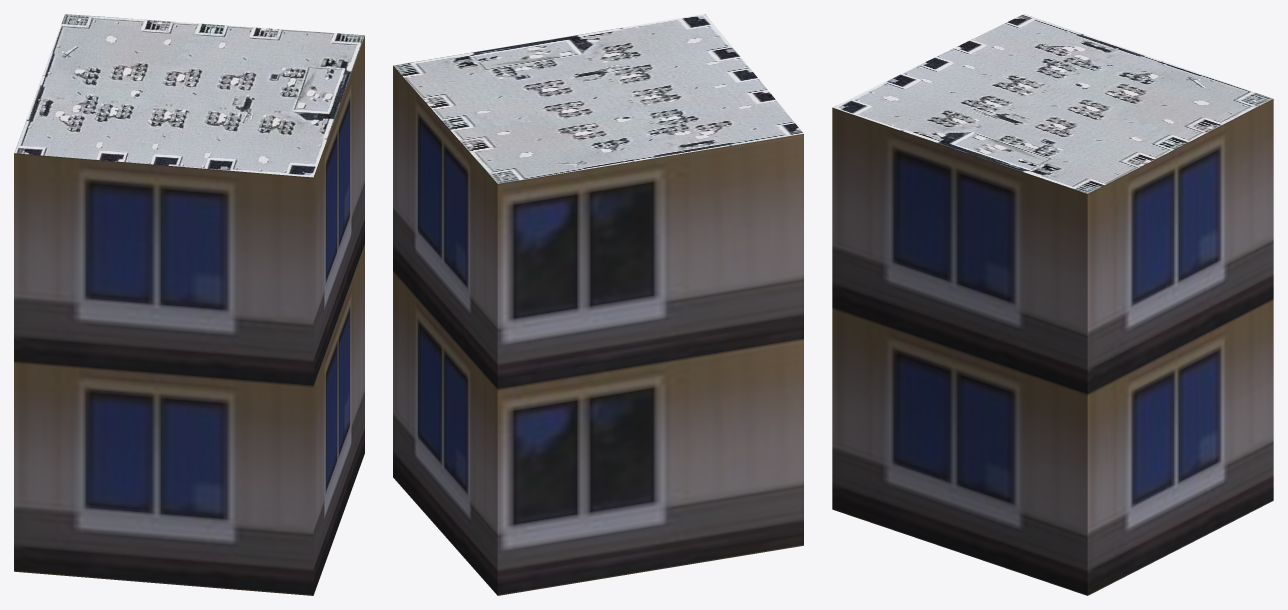
File: ResTex__1922.fbx
3 views of the same model, side by side, from view 1: azimuth 30°, elevation 25°; view 2: azimuth 150°, elevation 25°; view 3: azimuth 270°, elevation 25° (orthographic). The views are drawn at different scales.
Parts seen in each view (by area): view 1: CityEngineMaterial_5_m, CityEngineMaterial_4_m; view 2: CityEngineMaterial_5_m, CityEngineMaterial_4_m; view 3: CityEngineMaterial_5_m, CityEngineMaterial_4_m.
Part boxes in pixels (x1=…): CityEngineMaterial_5_m: x1=14, y1=35, x2=364, y2=595; CityEngineMaterial_4_m: x1=14, y1=14, x2=364, y2=177; CityEngineMaterial_5_m: x1=393, y1=66, x2=803, y2=595; CityEngineMaterial_4_m: x1=393, y1=14, x2=803, y2=183; CityEngineMaterial_5_m: x1=832, y1=99, x2=1273, y2=595; CityEngineMaterial_4_m: x1=833, y1=14, x2=1273, y2=193.
Bounding box in the file's own units: 5.76 × 6 × 5.97.
Materials: 2 (2 with a texture image).
